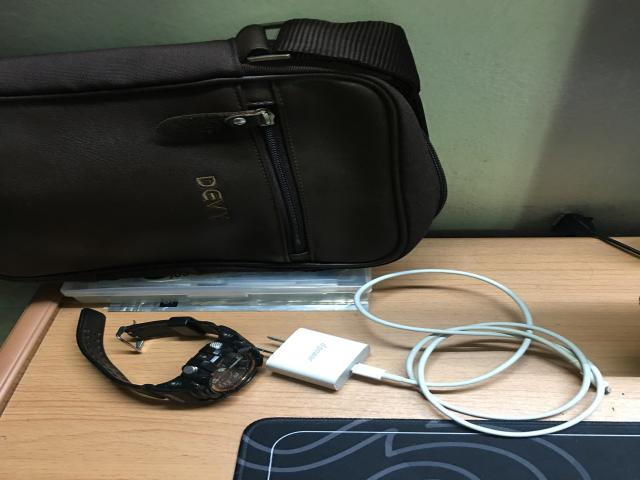Watch: (77, 308, 263, 403)
wire: (267, 269, 610, 438)
